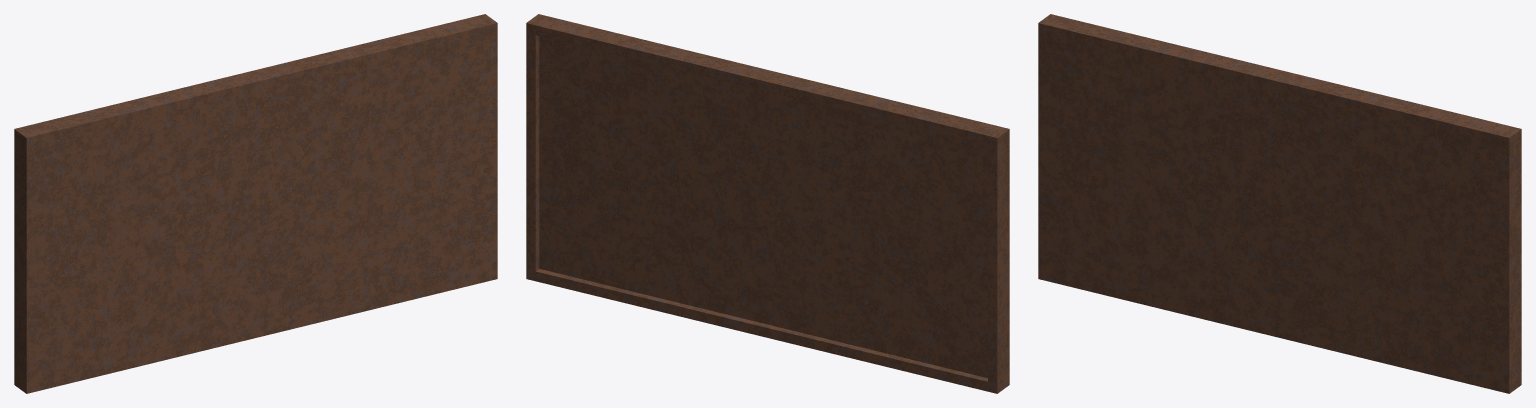
File: Generator 1.fbx
The picture shows the model from 3 angles, left to right: view 1: azimuth 30°, elevation 25°; view 2: azimuth 150°, elevation 25°; view 3: azimuth 330°, elevation 25°; orthographic projection.
Visible parts, largest first — view 1: Baked Generator; view 2: Baked Generator; view 3: Baked Generator.
Boxes of the visible parts, box(x1,y1,x2,y2) form: Baked Generator: box(14, 14, 497, 393); Baked Generator: box(526, 14, 1009, 393); Baked Generator: box(1038, 14, 1521, 393).
Bounding box in the file's own units: 269 × 139 × 12.24.
1 material, 1 textured.
